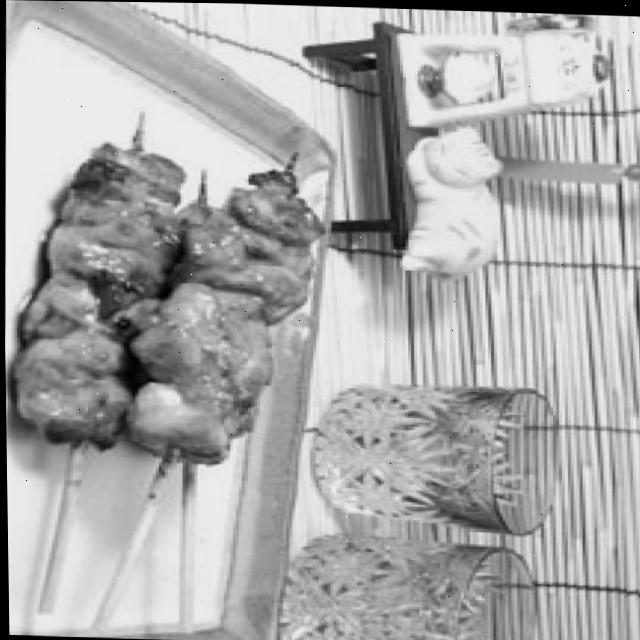烧串烤肉: (1, 110, 351, 638)
